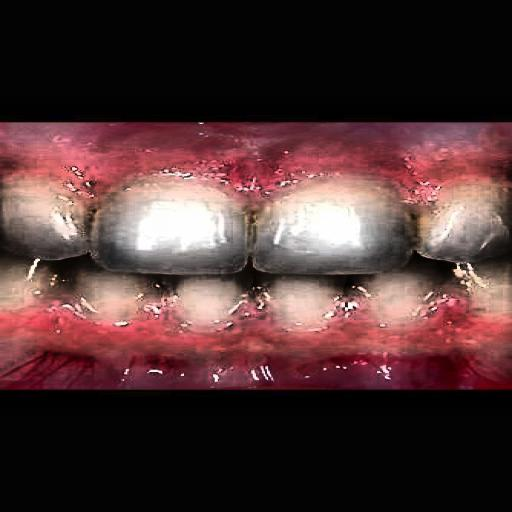Healthy: (12, 149, 512, 365)
